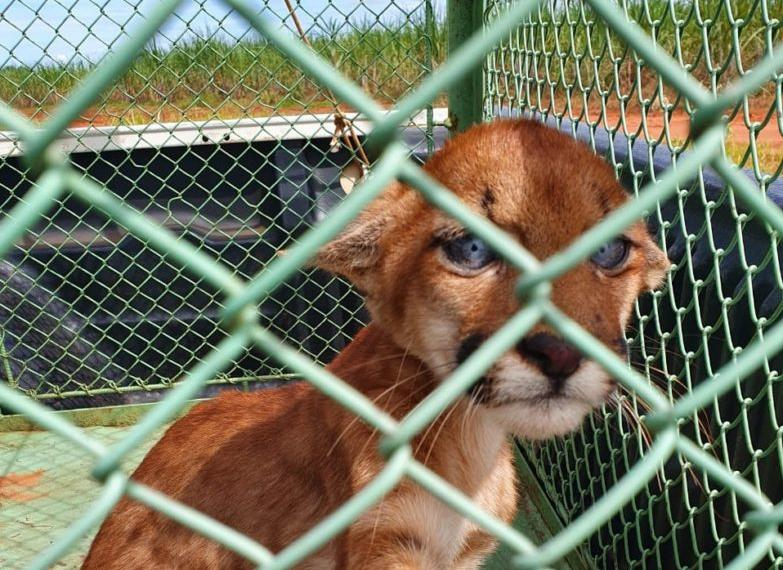OncaParda: (123, 108, 676, 546)
